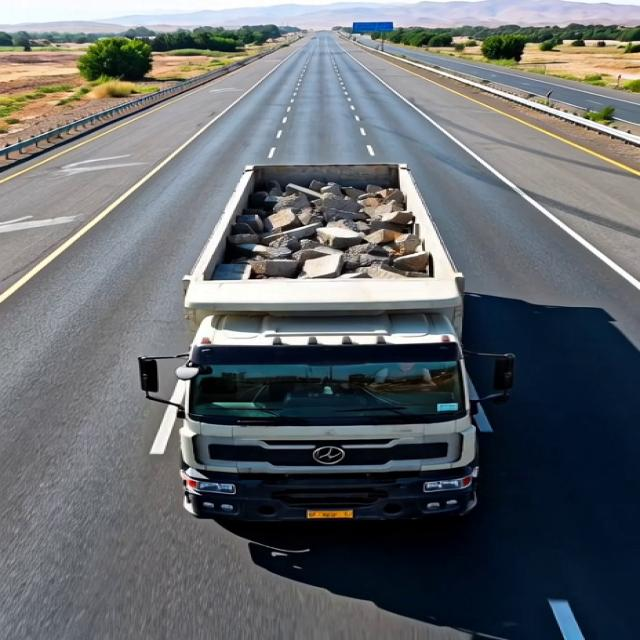trailer: (188, 158, 468, 300)
truck: (134, 136, 530, 545)
